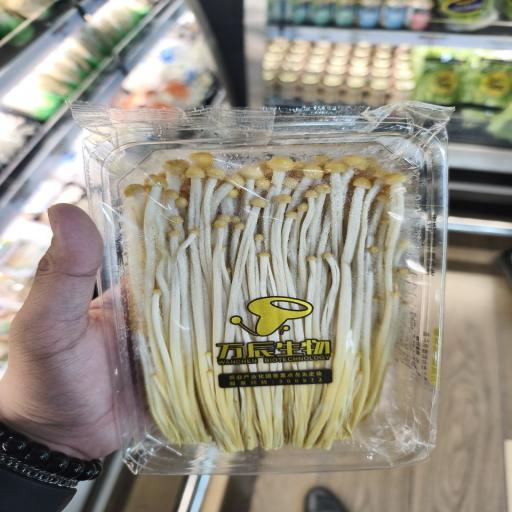Enoki Mushroom: (119, 139, 423, 459)
